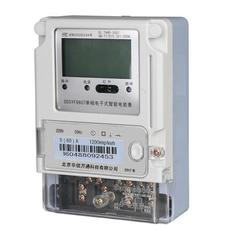digital: (34, 17, 169, 184)
